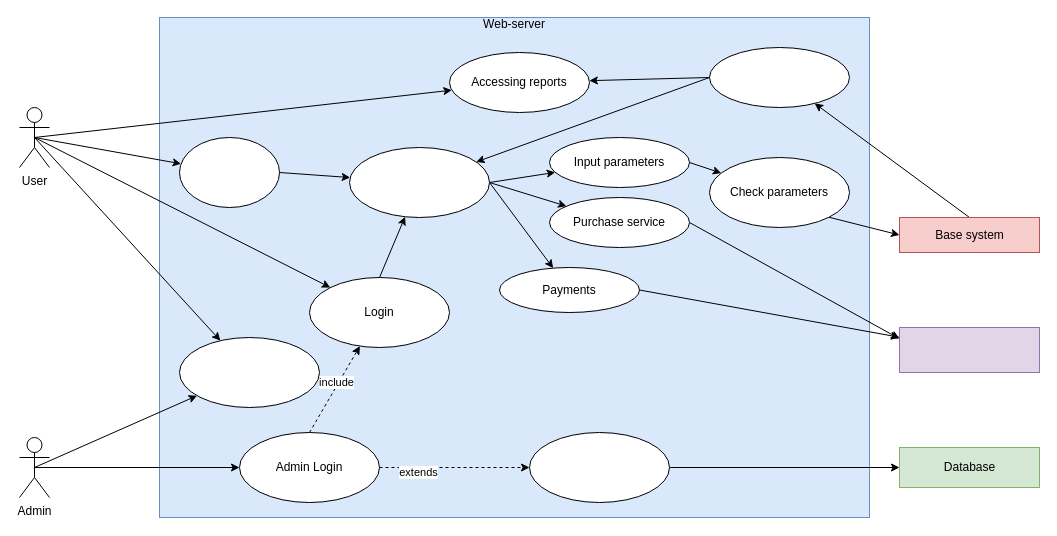
Some shapes in this 1057 by 536 pixel diagram are drawn without their labels. Each missing label, with the centre of its shape:
Home: (419,182)
Payment system: (969,349)
Perform admin operations: (599,467)
Register: (229,172)
Return analyzed parameters: (779,77)
View services: (249,372)
